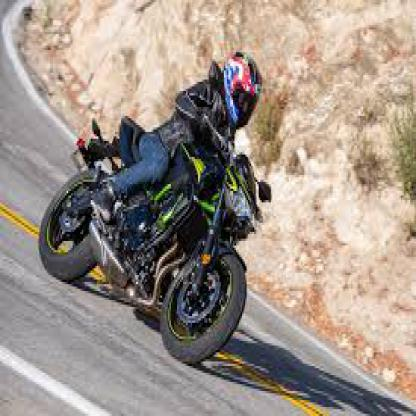Motorcycle: (36, 119, 264, 367)
